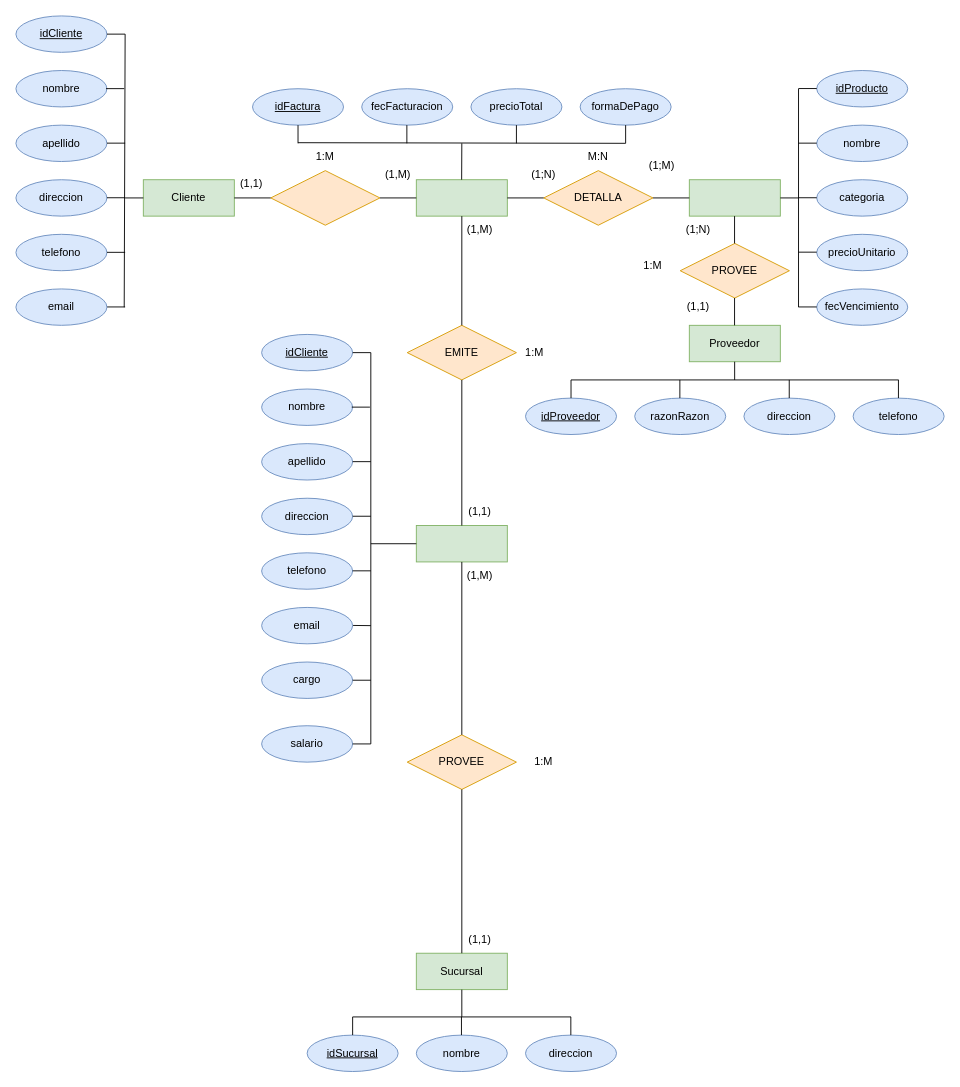
Some shapes in this 960 by 1087 pixel diagram are drawn without their labels. The centre of each missing label's shape, as x and y in pixels:
Empleado: pixel 461 543
Factura: pixel 461 197
Producto: pixel 734 197
RECIBE: pixel 325 197
